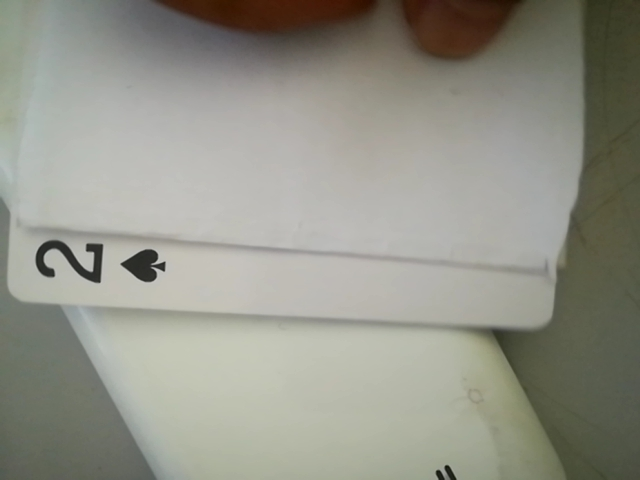ht 2: (19, 229, 172, 303)
